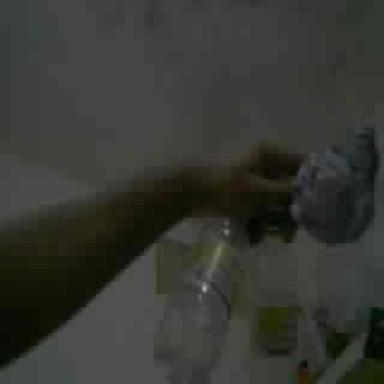bottle: (155, 219, 248, 382), (250, 233, 295, 382)
paper: (290, 126, 378, 243)
